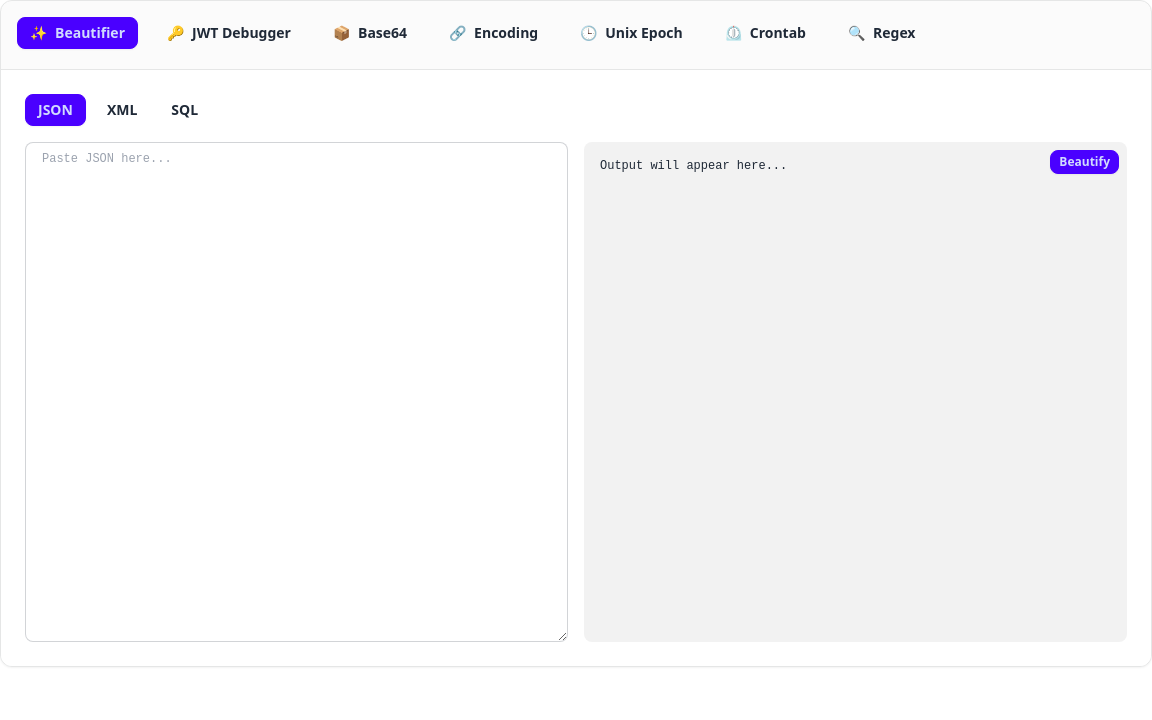
Scenario: Tools Component › switches to Encoding tab
Click the button "🔗 Encoding". click: (494, 33)
box: [436,17,551,49]
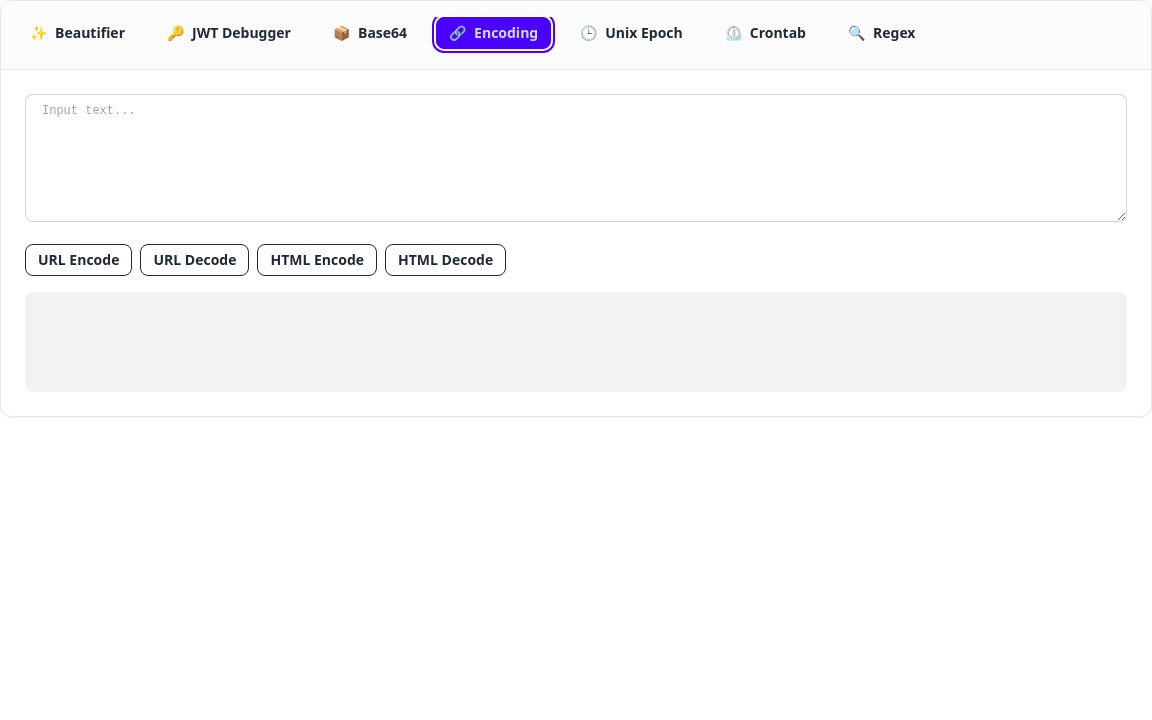
Check: the button "URL Encode" is shown, box [25,244,132,276]
Check: the button "URL Decode" is shown, box [140,244,249,276]
Check: the button "HTML Encode" is shown, box [257,244,377,276]
